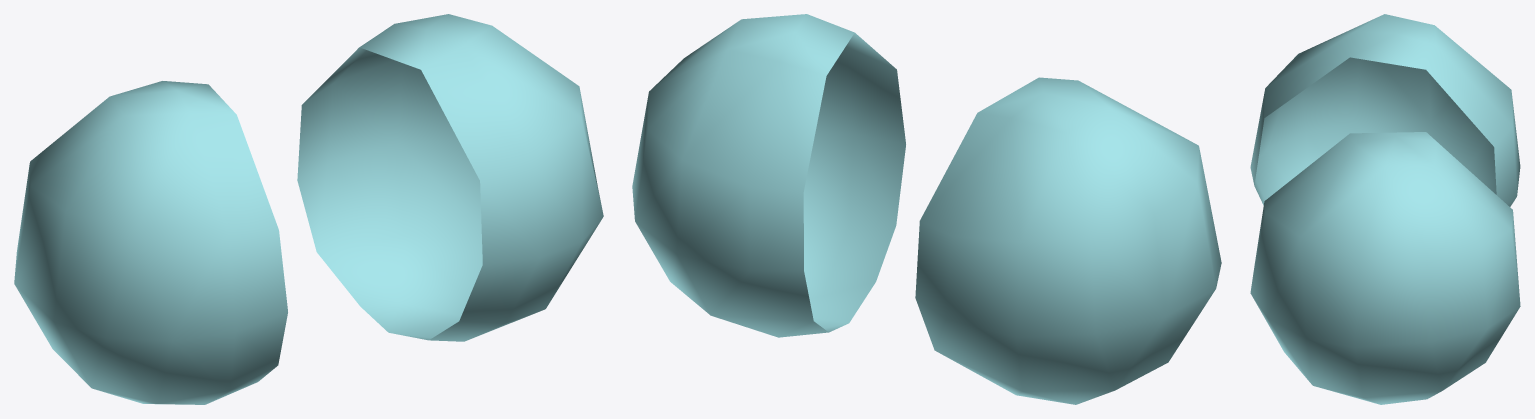
The model's file is Shrimp_Eye_Cherry_LOD1.fbx.
3 views of the same model, side by side, from view 1: azimuth 30°, elevation 25°; view 2: azimuth 150°, elevation 25°; view 3: azimuth 270°, elevation 25° (orthographic). The views are drawn at different scales.
Visible parts, largest first — view 1: Ch.Eye_low_LOD1; view 2: Ch.Eye_low_LOD1; view 3: Ch.Eye_low_LOD1.
Boxes of the visible parts, x1=… form: Ch.Eye_low_LOD1: x1=14, y1=14, x2=603, y2=404; Ch.Eye_low_LOD1: x1=632, y1=14, x2=1221, y2=404; Ch.Eye_low_LOD1: x1=1250, y1=14, x2=1520, y2=404.
Bounding box in the file's own units: 25.27 × 13.11 × 12.84.
